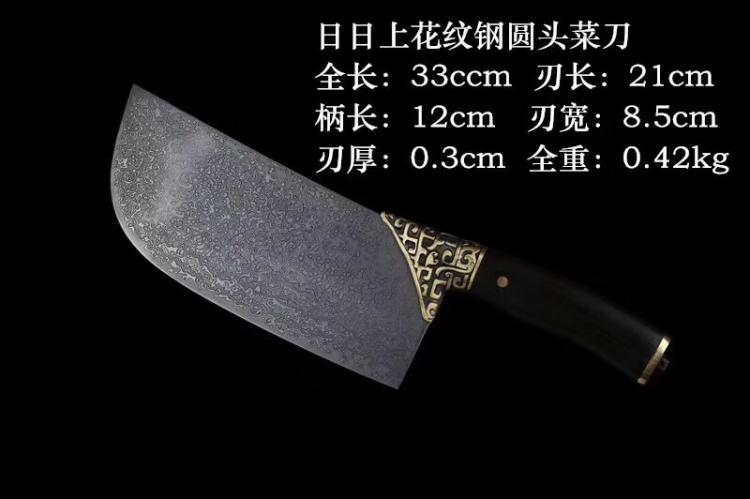knief: (102, 82, 675, 403)
